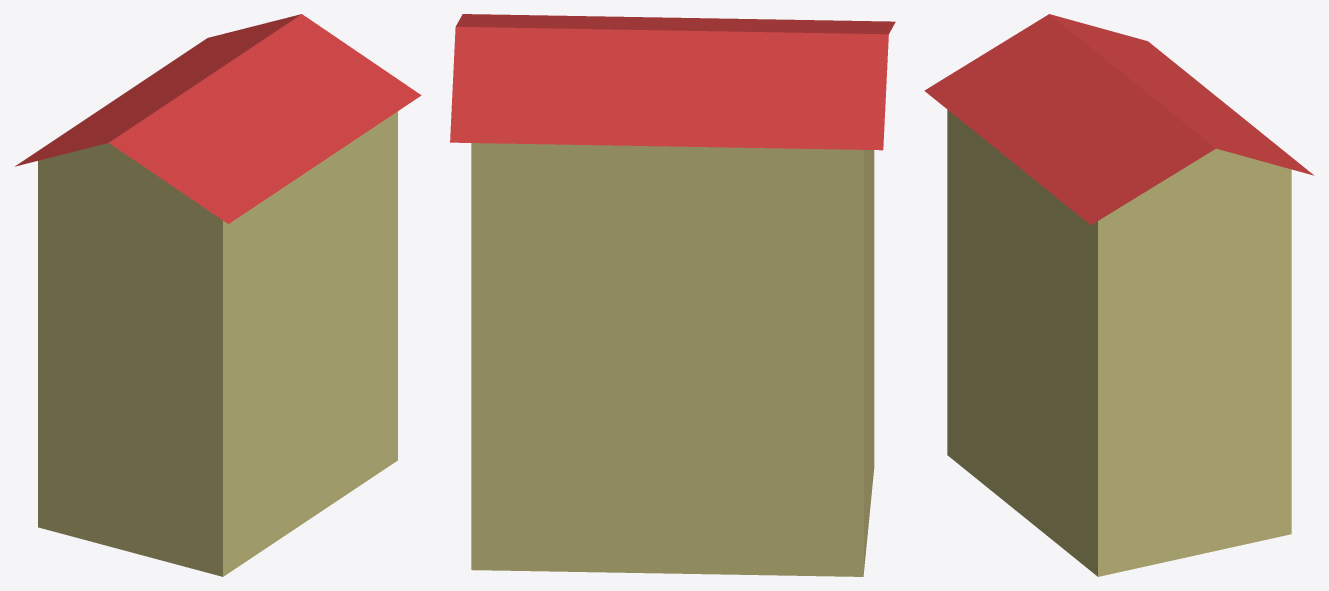
The picture shows the model from 3 angles, left to right: view 1: azimuth 30°, elevation 25°; view 2: azimuth 150°, elevation 25°; view 3: azimuth 270°, elevation 25°; orthographic projection. The views are drawn at different scales.
Size of the model in its own units: 6.36 by 5.7 by 6.61.
